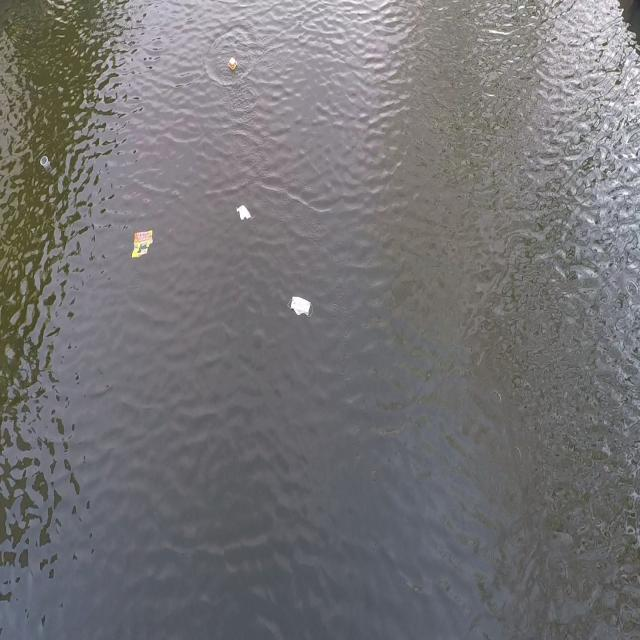Autre plastique: (126, 223, 158, 265), (222, 53, 241, 78), (34, 150, 51, 173)
Non plastique: (286, 287, 319, 323)
